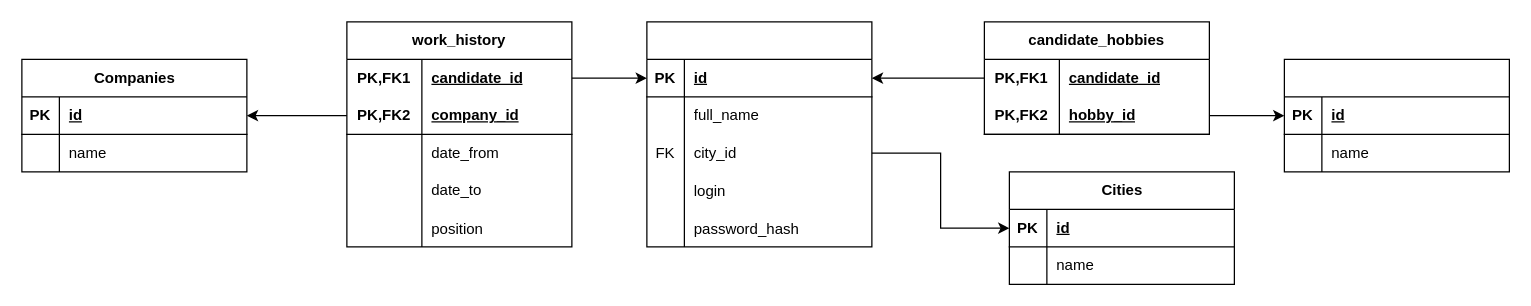
This 1531x306 diagram has some shape labels left out. Here are the shapes that lost their labels. From the top down, the box of each, then its label:
(646, 21, 872, 247): Candidates
(1283, 58, 1509, 172): Hobbies
